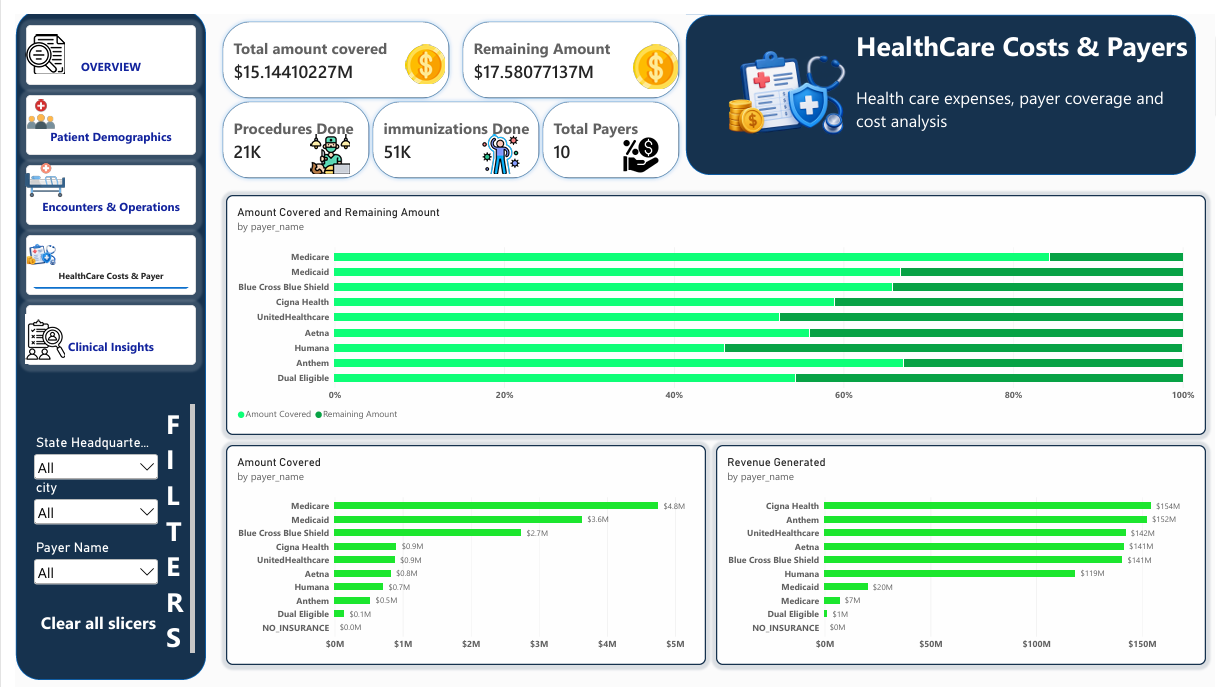

The page's visual inventory and layout, read from the dashboard file:
{"tool":"powerbi","page":{"name":"HealthCare Costs & Payer","canvas":[1920,1080],"ordinal":3},"visuals":[{"type":"cardVisual","fields":{"Data":["payers.remaining_amount"]},"box":[704,0,368,144],"z":0},{"type":"cardVisual","fields":{"Data":["Sum(payers.amount_covered)"]},"box":[320,0,384,144],"z":1000},{"type":"shape","box":[1072,0,816,256],"z":2000},{"type":"textbox","box":[1344,0,560,224],"z":3000},{"type":"image","box":[1072,16,320,224],"z":4000},{"type":"shape","box":[0,-8,304,1072],"z":5000},{"type":"pageNavigator","title":"Ctrl+Click to follow","box":[16,240,272,96],"z":6000},{"type":"pageNavigator","title":"Ctrl+Click to follow","box":[16,128,272,96],"z":7000},{"type":"pageNavigator","title":"Ctrl+Click to follow","box":[16,16,272,96],"z":8000},{"type":"pageNavigator","title":"Ctrl+Click to follow","box":[16,352,272,96],"z":9000},{"type":"pageNavigator","title":"Ctrl+Click to follow","box":[16,464,272,96],"z":10000},{"type":"hundredPercentStackedBarChart","fields":{"Category":["payers.payer_name"],"Y":["Sum(payers.amount_covered)","Sum(payers.amount_uncovered)"]},"box":[336,288,1568,384],"z":11000},{"type":"clusteredBarChart","fields":{"Category":["payers.payer_name"],"Y":["payers.total_revenue_generated"]},"box":[1120,688,784,352],"z":12000},{"type":"clusteredBarChart","fields":{"Category":["payers.payer_name"],"Y":["Sum(payers.amount_covered)"]},"box":[336,688,768,352],"z":13000},{"type":"slicer","fields":{"Values":["payers.state_headquartered"]},"box":[24,672,208,80],"z":15000},{"type":"slicer","fields":{"Values":["payers.city"]},"box":[24,744,208,80],"z":16000},{"type":"slicer","fields":{"Values":["payers.payer_name"]},"box":[24,840,208,80],"z":17000},{"type":"textbox","box":[240,624,48,408],"z":18000},{"type":"cardVisual","fields":{"Data":["Count(payers.payer_name)"]},"box":[832,128,240,144],"z":19000},{"type":"cardVisual","fields":{"Data":["Sum(payers.uncovered_procedures)"]},"box":[320,128,256,144],"z":20000},{"type":"cardVisual","fields":{"Data":["Sum(payers.covered_immunizations)"]},"box":[560,128,288,144],"z":21000},{"type":"image","box":[976,48,96,72],"z":22000},{"type":"image","box":[608,48,96,64],"z":23000},{"type":"image","box":[464,192,80,64],"z":24000},{"type":"image","box":[736,192,80,64],"z":25000},{"type":"image","box":[960,192,80,64],"z":26000},{"type":"actionButton","box":[24,936,216,72],"z":27000},{"type":"image","box":[0,32,96,64],"z":28000},{"type":"image","box":[16,128,48,64],"z":29000},{"type":"image","box":[16,224,64,80],"z":30000},{"type":"image","box":[0,336,80,96],"z":30001},{"type":"image","box":[16,480,64,80],"z":30002}]}

Visuals, with their boxes in screenshot pixels (x1, y1, x2, y2), scaled from the page's 1920x1080 canvas onto the 1228x687 screenshot:
cardVisual - payers.remaining_amount: 450:0:686:92
cardVisual - Sum(payers.amount_covered): 205:0:450:92
shape: 686:0:1208:163
textbox: 860:0:1218:142
image: 686:10:890:153
shape: 0:0:194:677
"Ctrl+Click to follow" pageNavigator: 10:153:184:214
"Ctrl+Click to follow" pageNavigator: 10:81:184:142
"Ctrl+Click to follow" pageNavigator: 10:10:184:71
"Ctrl+Click to follow" pageNavigator: 10:224:184:285
"Ctrl+Click to follow" pageNavigator: 10:295:184:356
hundredPercentStackedBarChart - payers.payer_name x Sum(payers.amount_covered): 215:183:1218:427
clusteredBarChart - payers.payer_name x payers.total_revenue_generated: 716:438:1218:662
clusteredBarChart - payers.payer_name x Sum(payers.amount_covered): 215:438:706:662
slicer - payers.state_headquartered: 15:427:148:478
slicer - payers.city: 15:473:148:524
slicer - payers.payer_name: 15:534:148:585
textbox: 154:397:184:656
cardVisual - Count(payers.payer_name): 532:81:686:173
cardVisual - Sum(payers.uncovered_procedures): 205:81:368:173
cardVisual - Sum(payers.covered_immunizations): 358:81:542:173
image: 624:31:686:76
image: 389:31:450:71
image: 297:122:348:163
image: 471:122:522:163
image: 614:122:665:163
actionButton: 15:595:154:641
image: 0:20:61:61
image: 10:81:41:122
image: 10:142:51:193
image: 0:214:51:275
image: 10:305:51:356
